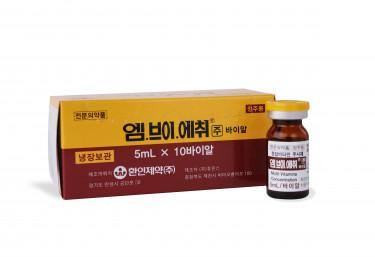PILL BOTTLE: (265, 99, 310, 199)
